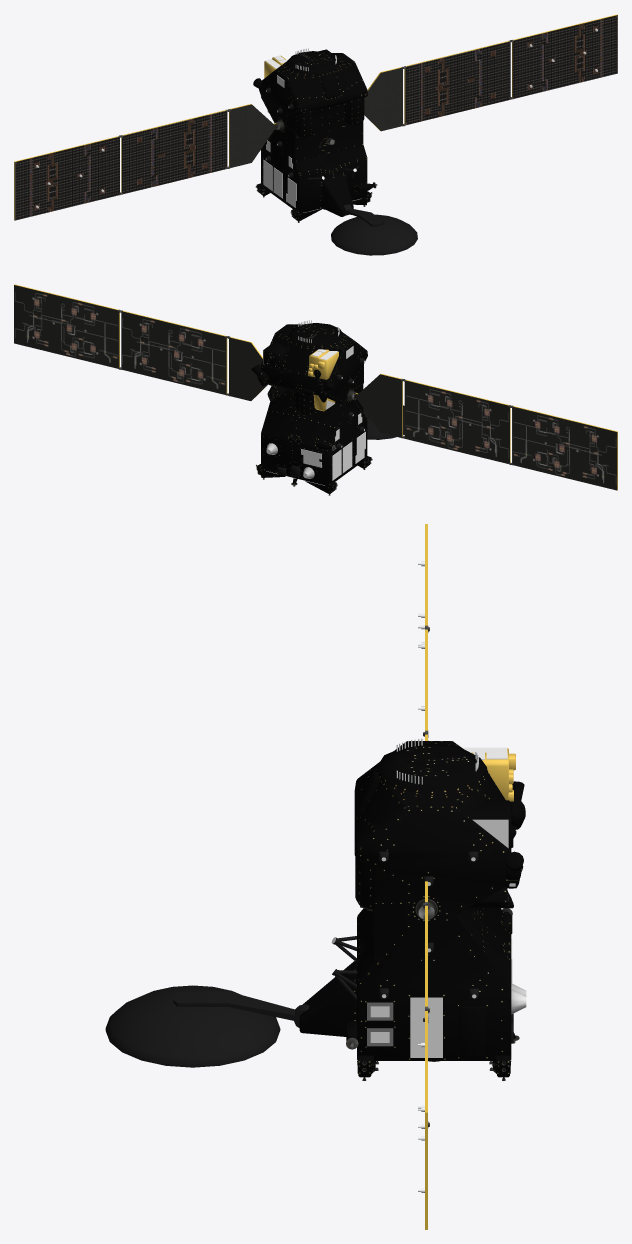
File: exomars.glb
3 views of the same model, one above another, from view 1: azimuth 30°, elevation 25°; view 2: azimuth 150°, elevation 25°; view 3: azimuth 270°, elevation 25° (orthographic). The views are drawn at different scales.
Parts seen in each view (by area): view 1: left_array_2, TGO_BUS, array_gimbals, Cube.027, left_array_1; view 2: array_gimbals, TGO_BUS, Cube.027, left_array_1; view 3: TGO_BUS, Cube.027, left_array_1, array_gimbals.
Part boxes in pixels (<box>): left_array_2: <box>14,15,617,220</box>; TGO_BUS: <box>253,49,417,255</box>; array_gimbals: <box>118,39,513,222</box>; Cube.027: <box>263,55,296,207</box>; left_array_1: <box>14,14,617,220</box>; array_gimbals: <box>14,285,617,495</box>; TGO_BUS: <box>251,323,404,494</box>; Cube.027: <box>263,346,365,480</box>; left_array_1: <box>14,284,617,490</box>; TGO_BUS: <box>105,741,525,1077</box>; Cube.027: <box>367,747,515,1057</box>; left_array_1: <box>425,524,427,1229</box>; array_gimbals: <box>346,625,526,1127</box>.
Bounding box in the file's own units: 17.53 × 4.13 × 5.3.
Materials: 10 (10 with a texture image).
